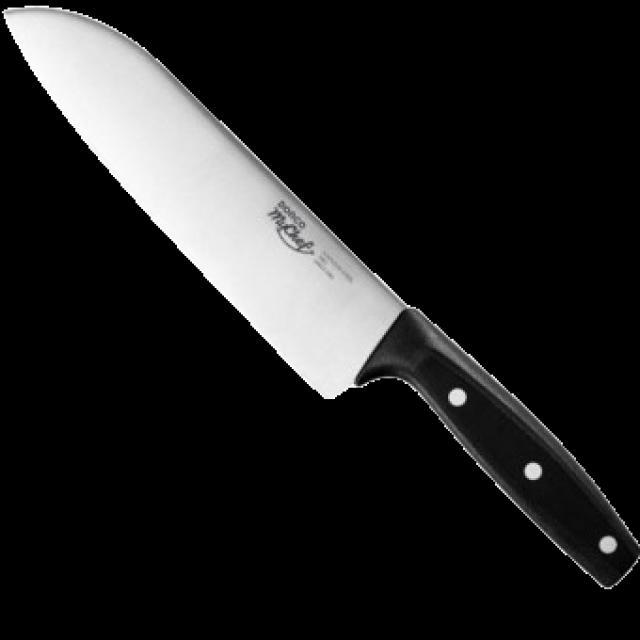knife: (0, 13, 638, 601)
